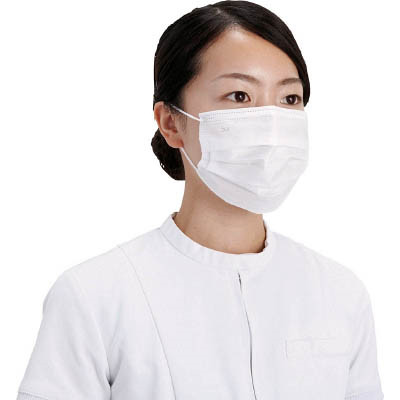mask: (204, 111, 308, 208)
